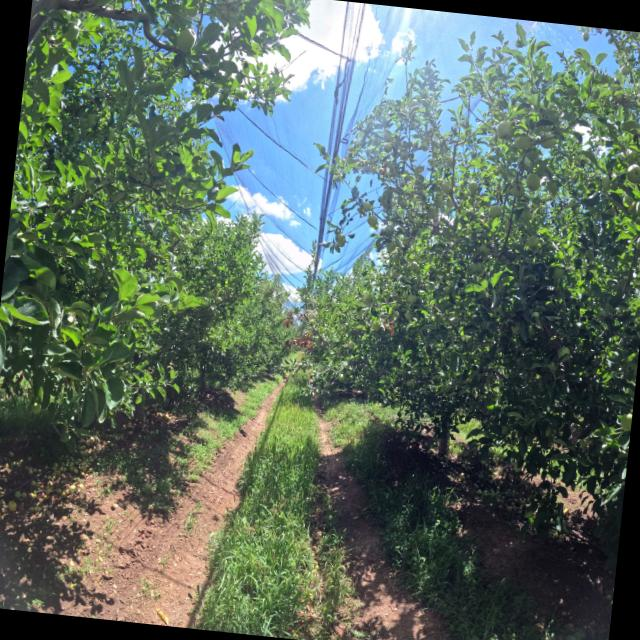-FireBlight-: (284, 332, 314, 352), (282, 312, 295, 328), (298, 312, 309, 322)
